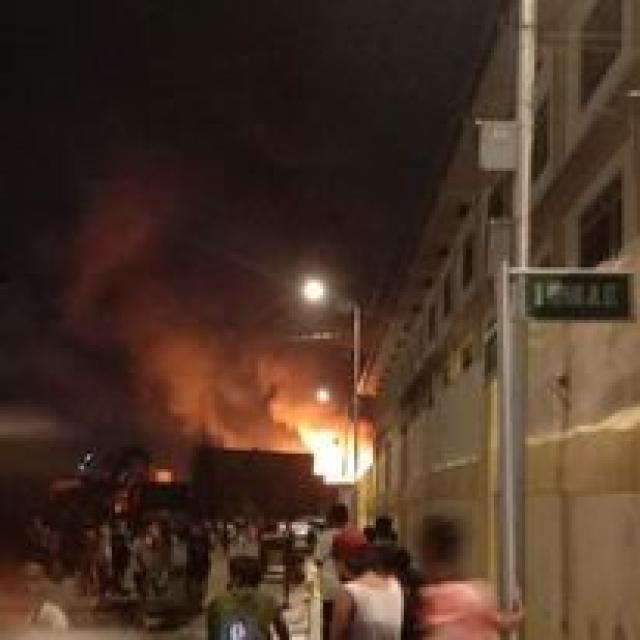Fire: (290, 412, 373, 485)
Smoke: (0, 0, 361, 452)
